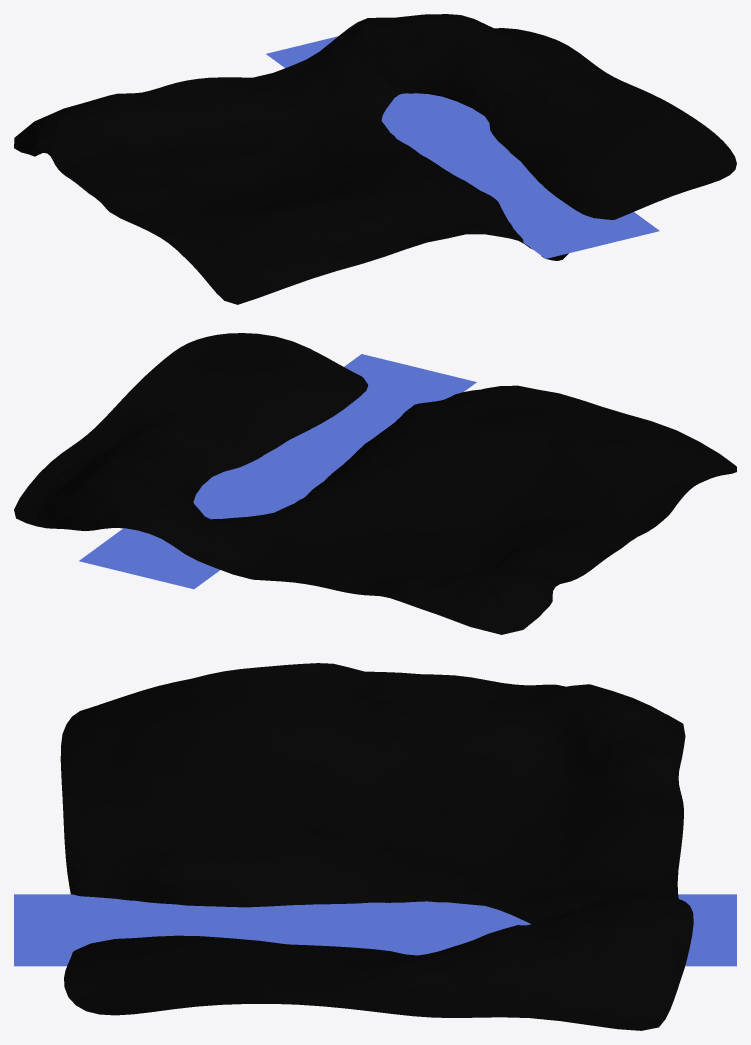
File: Low Poly Ground Plane.fbx
3 renders of one model, top to bottom at view 1: azimuth 30°, elevation 25°; view 2: azimuth 150°, elevation 25°; view 3: azimuth 270°, elevation 25°, orthographic. The views are drawn at different scales.
Visible parts, largest first — view 1: Plane, Water; view 2: Plane, Water; view 3: Plane, Water.
Part boxes in pixels (x1,y1,x2,y2): Plane: [14, 14, 736, 304]; Water: [266, 36, 659, 258]; Plane: [14, 333, 736, 634]; Water: [79, 354, 476, 589]; Plane: [60, 663, 693, 1030]; Water: [14, 894, 736, 966].
Size of the model in its own units: 5134 by 716 by 4621.
